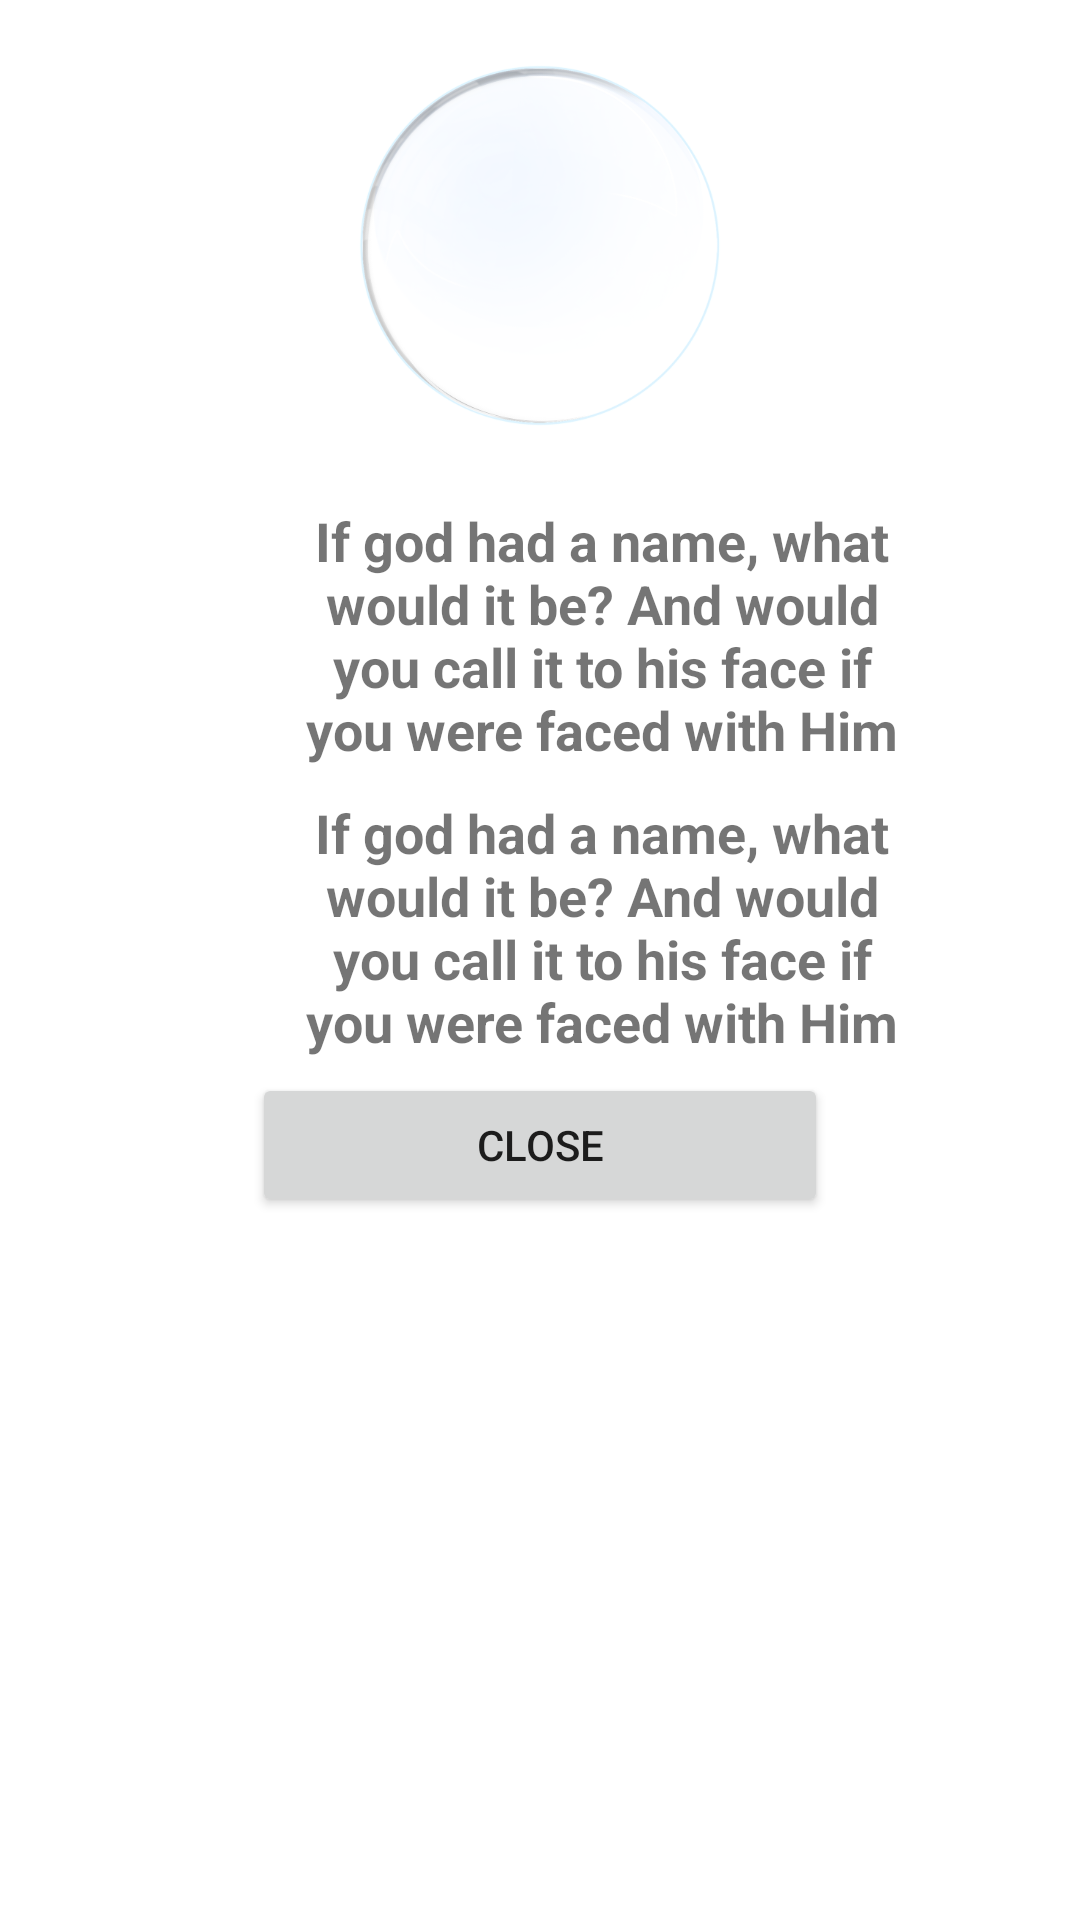

Named icons in this screenshot (1080 x 1920) and their centers, (x,y):
bubble: (540,246)
